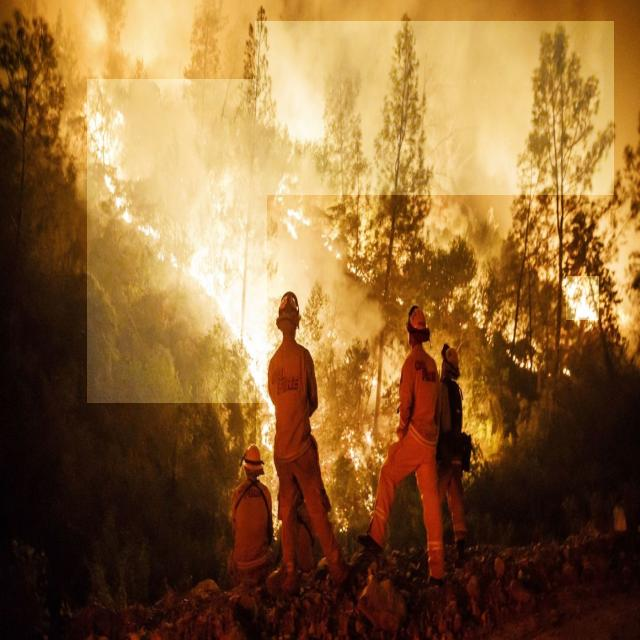Fire: (87, 80, 267, 403), (282, 166, 359, 257), (566, 276, 599, 320)
Smoke: (255, 22, 614, 195)
